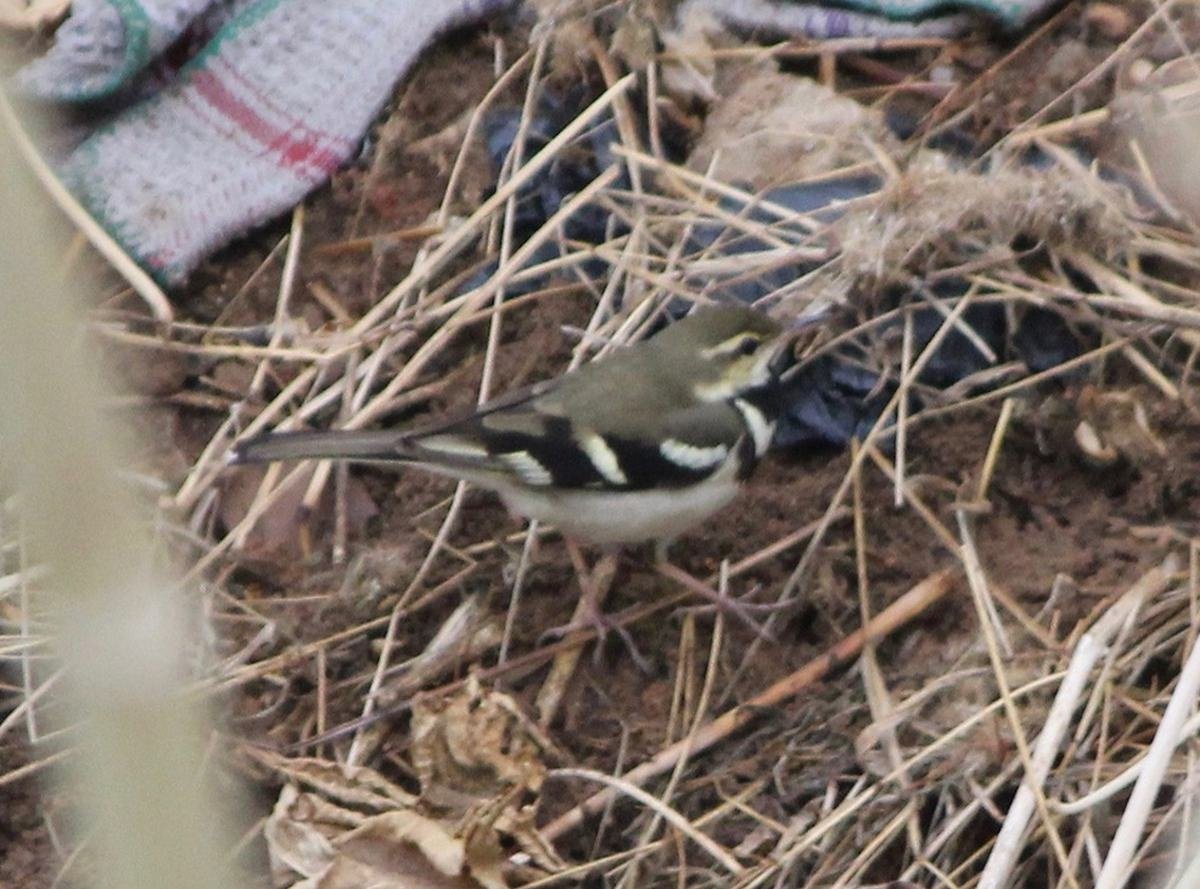wagtail: (294, 290, 818, 616)
